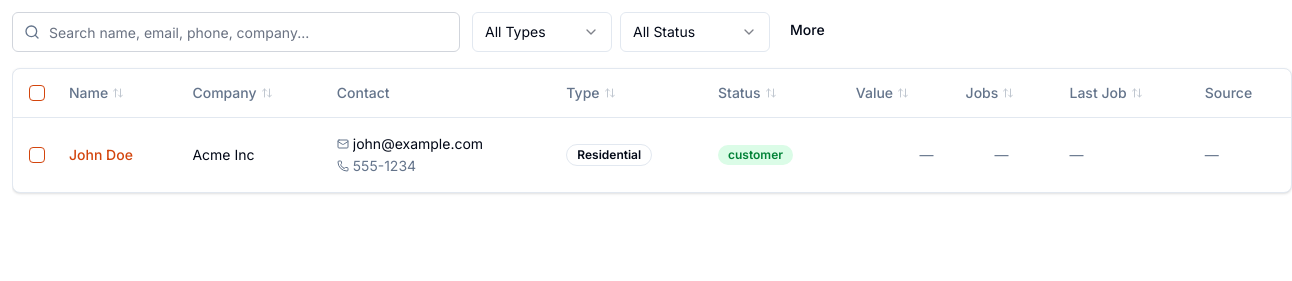
Test case: CustomerList › bulk selection › clears the selection when Clear is clicked
The image size is (1292, 281).
Click the checkbox named "Select John Doe" at (37,154), box [29,146,45,162]
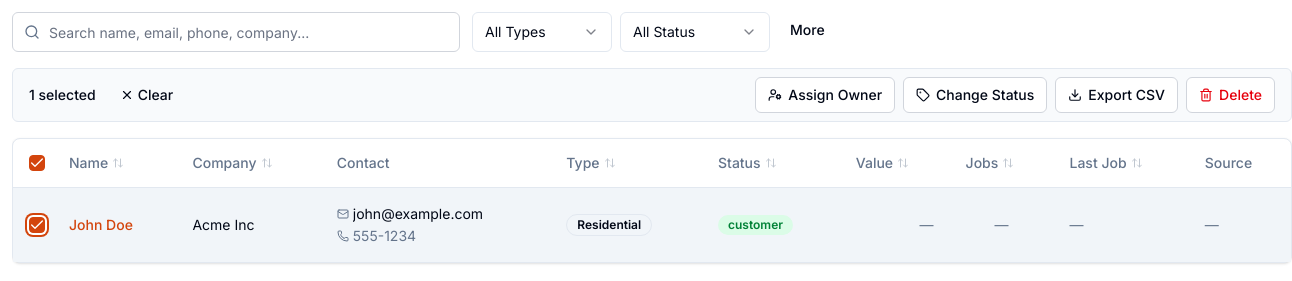
Check: the text "1 selected" is shown, box [29,85,96,105]
Click the button "Clear" at (146,95), box [108,77,185,113]
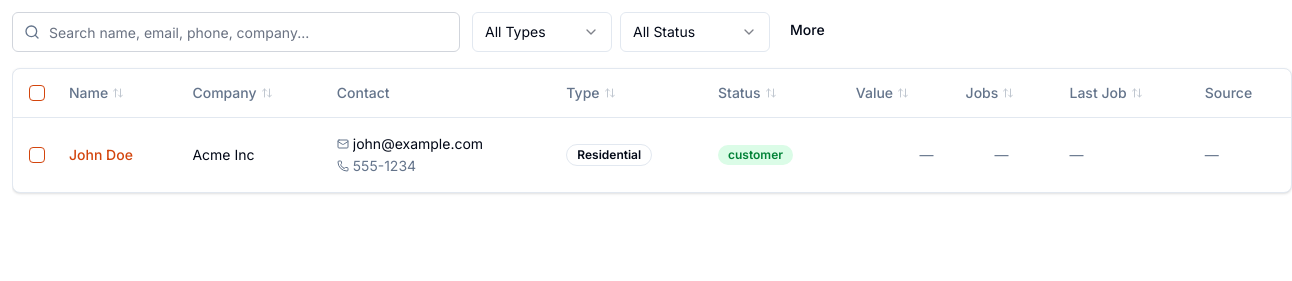
Check: the text "selected" is gone
